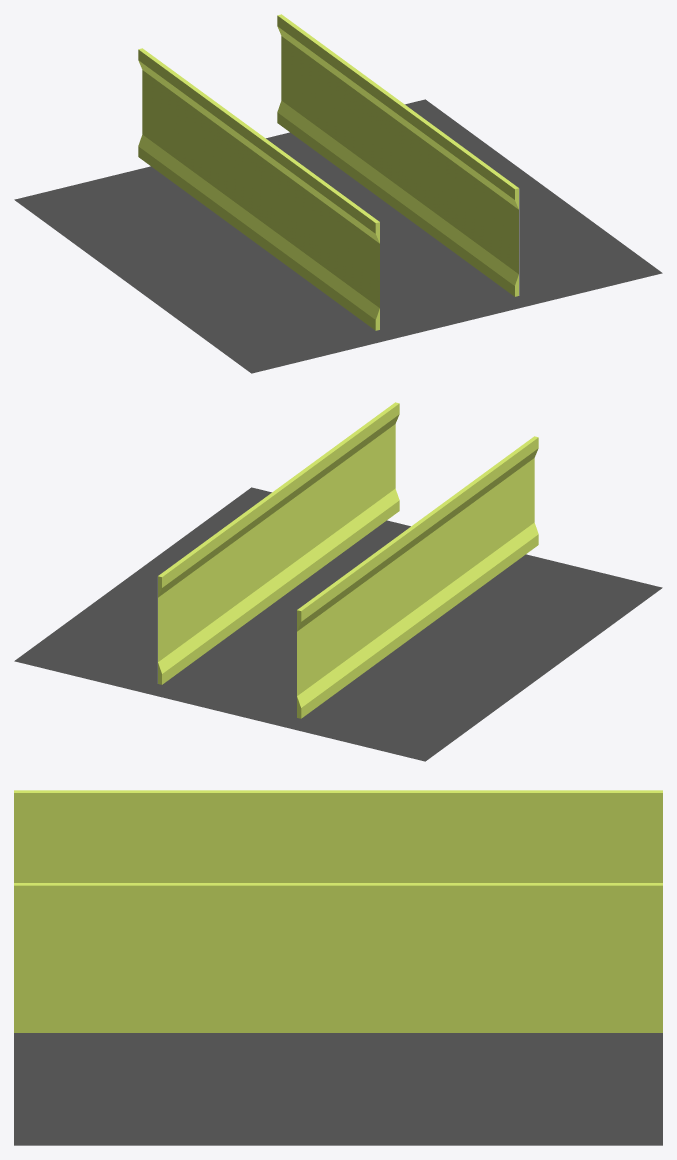
File: Fall.dae
3 renders of one model, top to bottom at view 1: azimuth 30°, elevation 25°; view 2: azimuth 150°, elevation 25°; view 3: azimuth 270°, elevation 25°, orthographic. The views are drawn at different scales.
Visible parts, largest first — view 1: node_74610ff2_7b2e_4fc0_ae88_2d65a80ab4f1_mesh2, node_74610ff2_7b2e_4fc0_ae88_2d65a80ab4f1_mesh1, node_74610ff2_7b2e_4fc0_ae88_2d65a80ab4f1_mesh0; view 2: node_74610ff2_7b2e_4fc0_ae88_2d65a80ab4f1_mesh2, node_74610ff2_7b2e_4fc0_ae88_2d65a80ab4f1_mesh1, node_74610ff2_7b2e_4fc0_ae88_2d65a80ab4f1_mesh0; view 3: node_74610ff2_7b2e_4fc0_ae88_2d65a80ab4f1_mesh1, node_74610ff2_7b2e_4fc0_ae88_2d65a80ab4f1_mesh2, node_74610ff2_7b2e_4fc0_ae88_2d65a80ab4f1_mesh0.
Boxes of the visible parts, box(x1,y1,x2,y2) form: node_74610ff2_7b2e_4fc0_ae88_2d65a80ab4f1_mesh2: box(14, 99, 662, 373); node_74610ff2_7b2e_4fc0_ae88_2d65a80ab4f1_mesh1: box(277, 14, 519, 296); node_74610ff2_7b2e_4fc0_ae88_2d65a80ab4f1_mesh0: box(138, 48, 379, 330); node_74610ff2_7b2e_4fc0_ae88_2d65a80ab4f1_mesh2: box(14, 487, 662, 761); node_74610ff2_7b2e_4fc0_ae88_2d65a80ab4f1_mesh1: box(157, 402, 399, 684); node_74610ff2_7b2e_4fc0_ae88_2d65a80ab4f1_mesh0: box(297, 436, 538, 718); node_74610ff2_7b2e_4fc0_ae88_2d65a80ab4f1_mesh1: box(14, 883, 662, 1032); node_74610ff2_7b2e_4fc0_ae88_2d65a80ab4f1_mesh2: box(14, 1033, 662, 1145); node_74610ff2_7b2e_4fc0_ae88_2d65a80ab4f1_mesh0: box(14, 790, 662, 882).
Bounding box in the file's own units: 5000 × 1395 × 5000.
